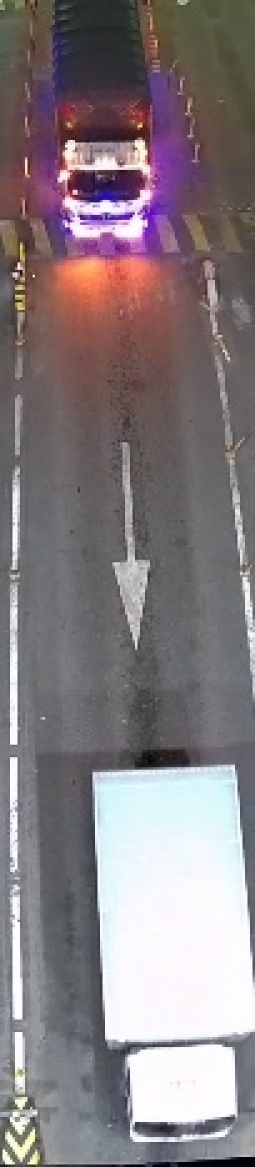truck: (78, 746, 253, 1162), (35, 4, 170, 250)
